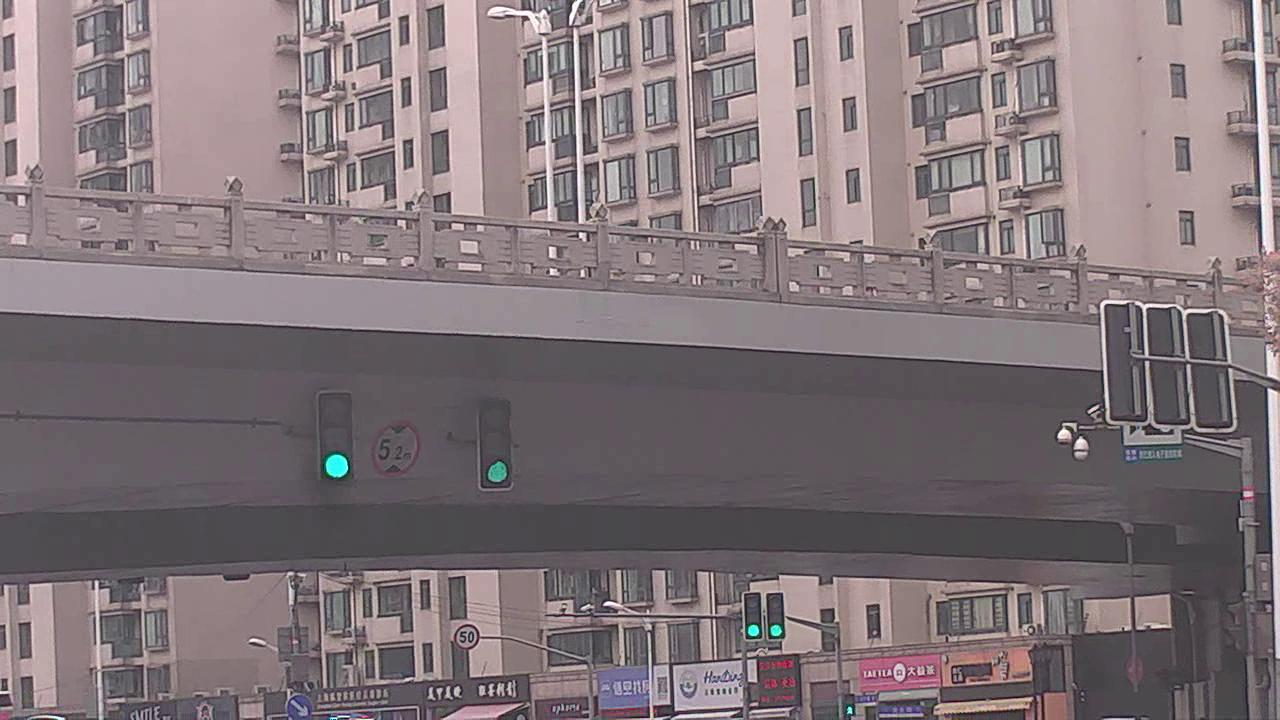traffic_light: (316, 392, 353, 485), (479, 400, 513, 491), (765, 591, 788, 637), (745, 592, 762, 639)
